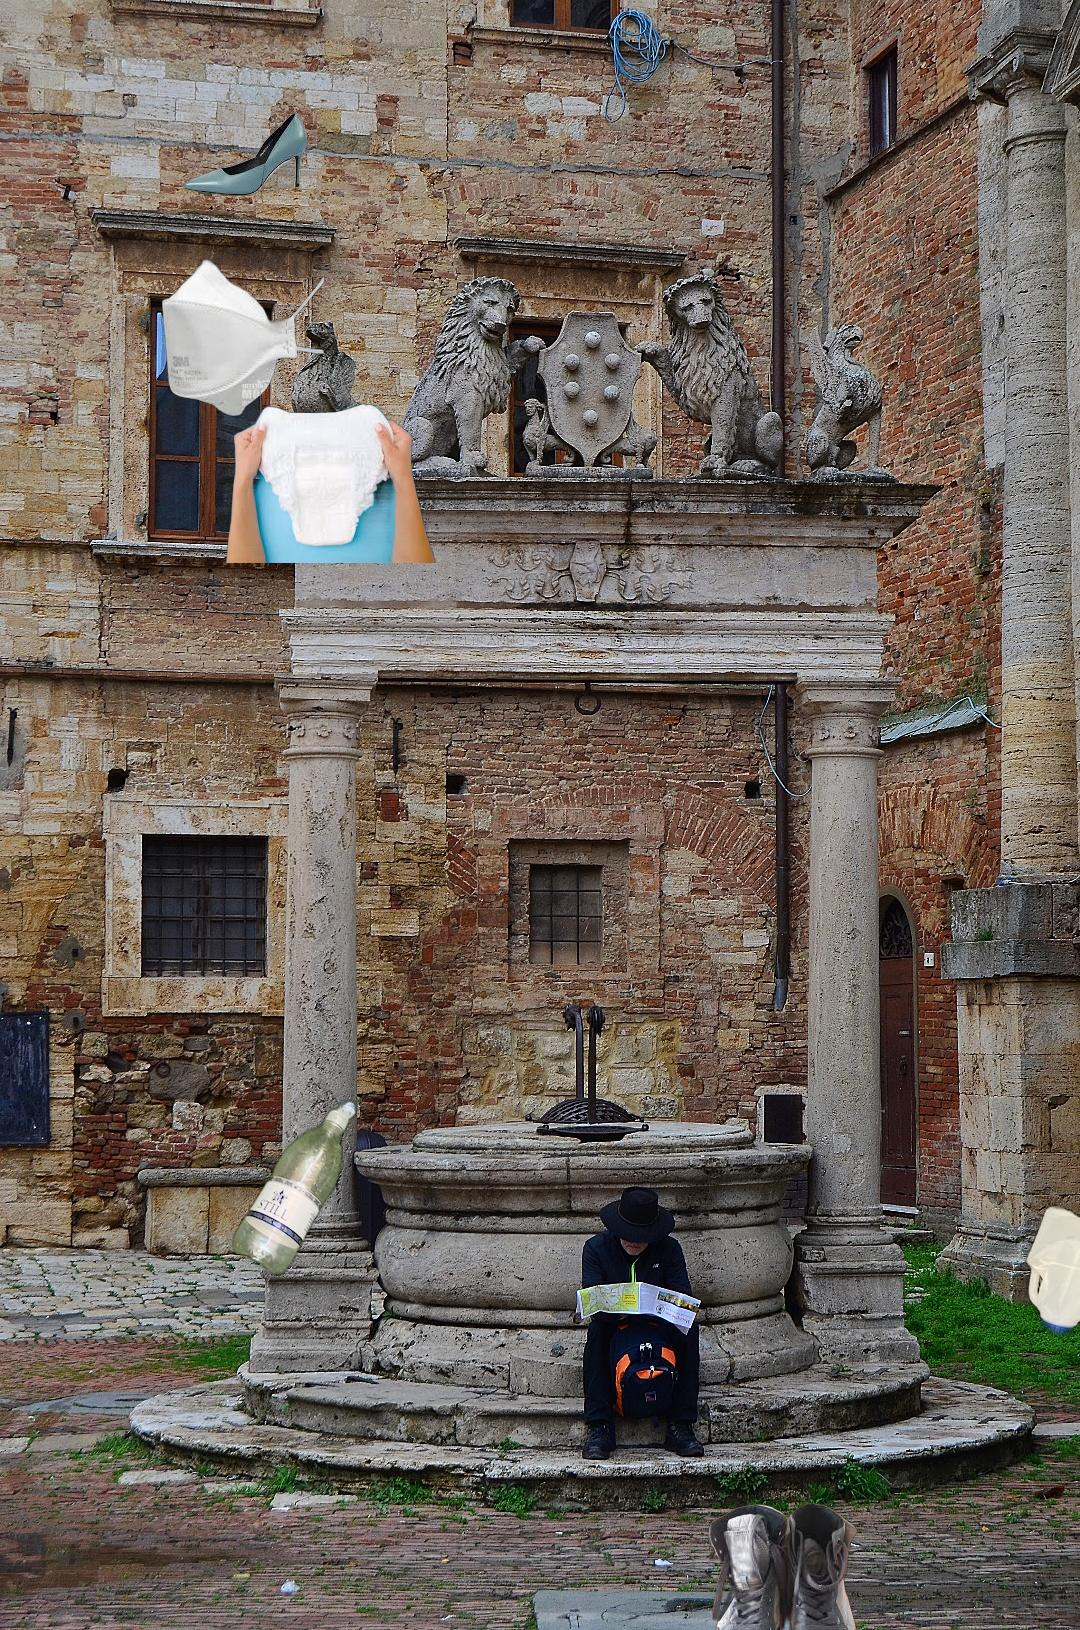plastic-bottles: (229, 1094, 360, 1282), (1021, 1176, 1080, 1343)
shoes: (705, 1500, 863, 1630), (181, 110, 310, 199)
trash: (224, 401, 458, 563), (159, 255, 329, 419)
